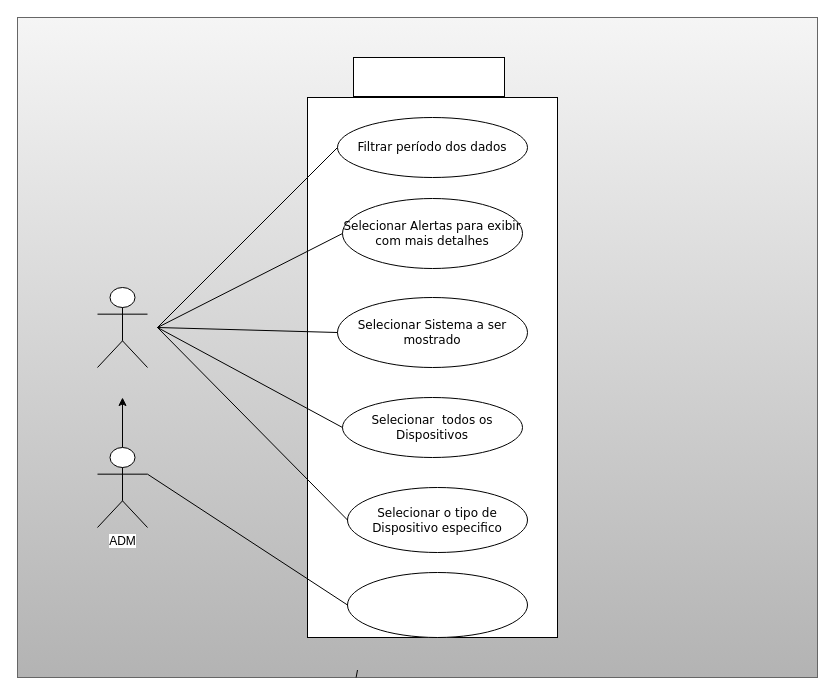
This 835x696 diagram has some shape labels left out. The shapes that lost their labels are listed below. From the top down, each one's centre as x and y in pixels, then its label:
(428,76): Dashboard
(122,327): Cliente
(437,605): Alterar Configurações da Dash Board
